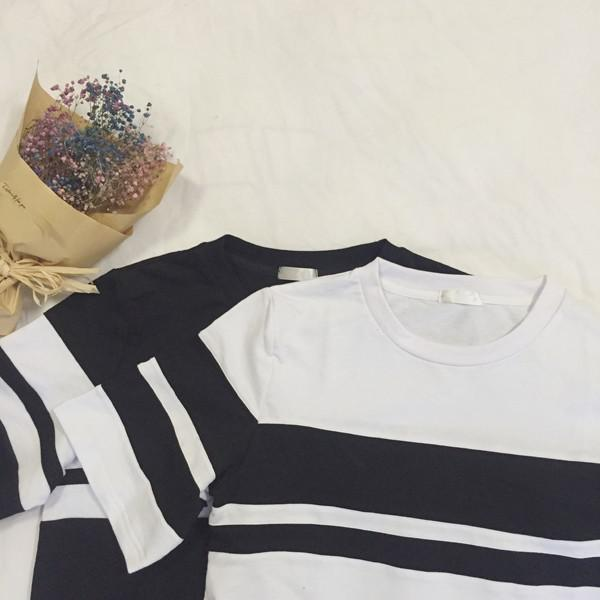Tops: (96, 264, 598, 600)
